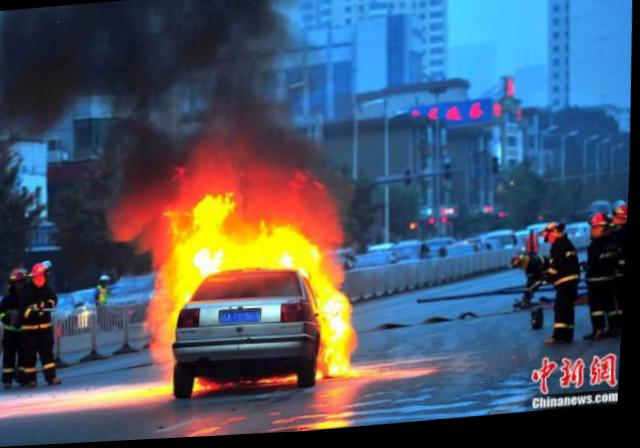fire: (314, 274, 358, 381), (188, 190, 233, 275), (268, 227, 320, 279), (167, 232, 204, 305), (230, 237, 270, 270)
